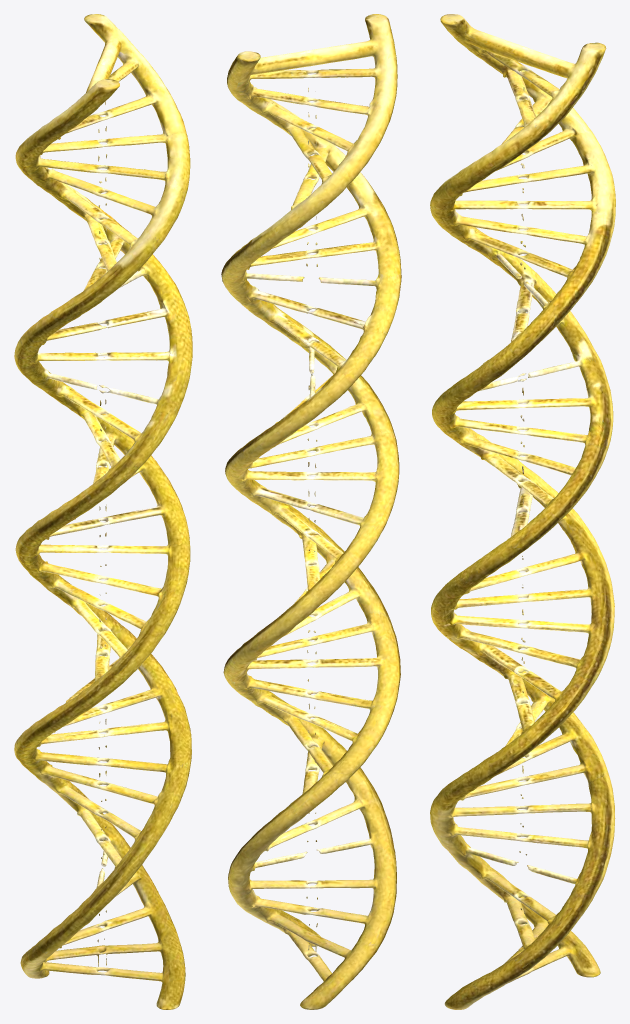
File: dnagolden.glb
3 views of the same model, side by side, from view 1: azimuth 30°, elevation 25°; view 2: azimuth 150°, elevation 25°; view 3: azimuth 270°, elevation 25° (orthographic).
Bounding box in the file's own units: 0.3365 × 1.9 × 0.3346.
Materials: 1 (1 with a texture image).
